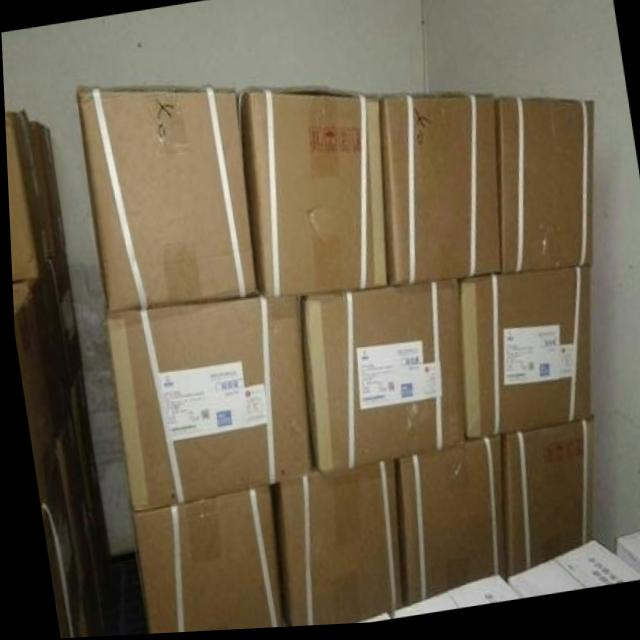box: (101, 298, 311, 511), (80, 86, 254, 310), (300, 283, 462, 476), (238, 89, 385, 297), (457, 271, 591, 448), (378, 98, 498, 290), (125, 484, 277, 635), (265, 462, 396, 630), (390, 445, 501, 608), (496, 102, 591, 278), (497, 427, 590, 578), (10, 261, 66, 470), (32, 442, 76, 639), (499, 545, 640, 602), (4, 108, 49, 281), (44, 402, 85, 584), (381, 579, 516, 621), (48, 244, 81, 402), (27, 119, 64, 255), (66, 374, 94, 524), (78, 523, 105, 637), (87, 484, 107, 621), (608, 536, 640, 582), (67, 585, 86, 638), (347, 612, 386, 626)
